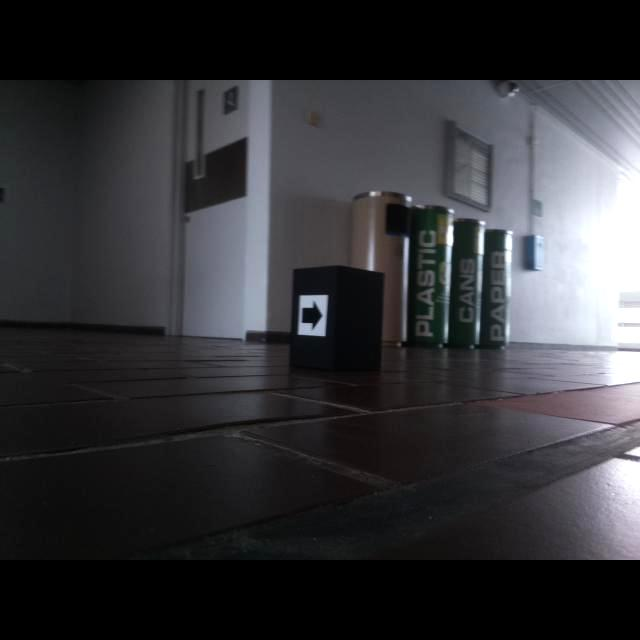RIGHT: (301, 299, 323, 332)
